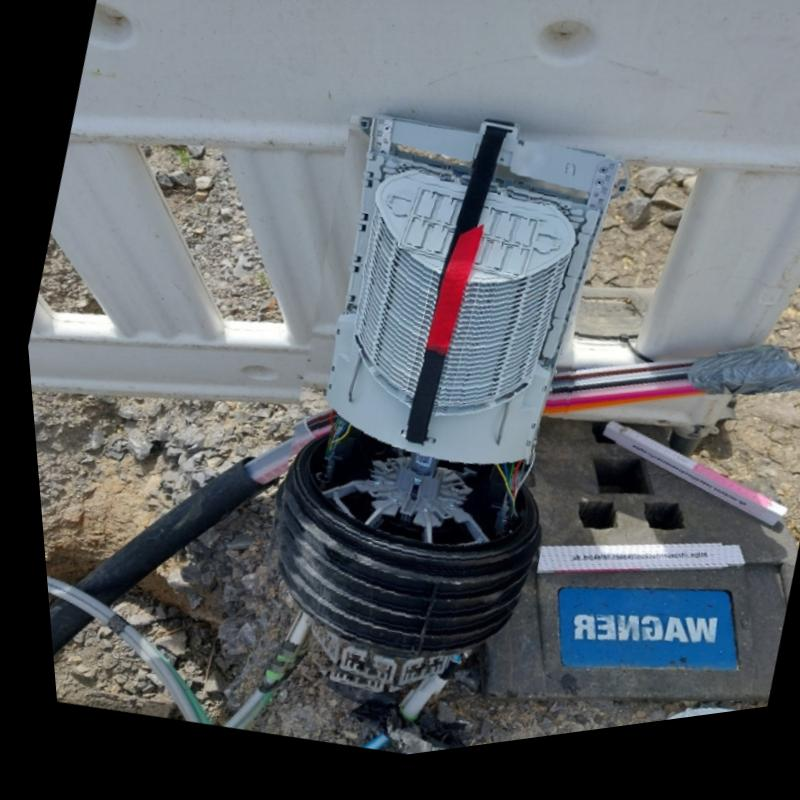NT-Muffen: (194, 96, 649, 752)
